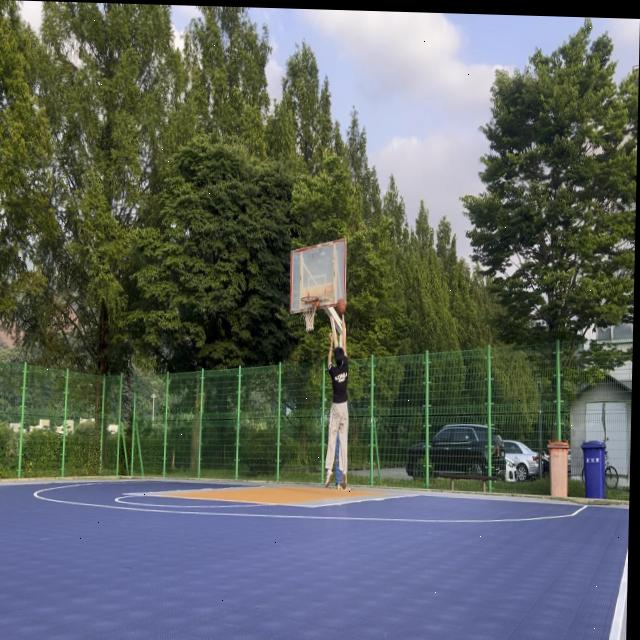basketball: (336, 298, 346, 317)
hoop: (300, 295, 319, 333)
